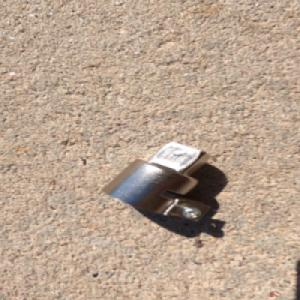MetalPart: (100, 141, 211, 224)
